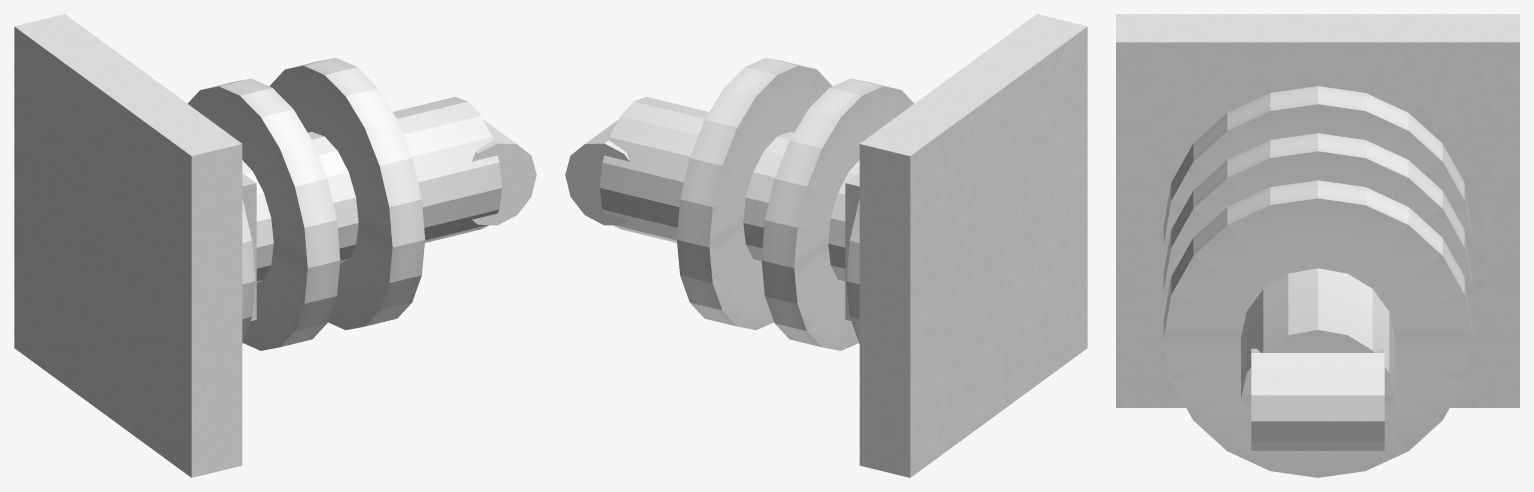
Rendered from lineinsulator3200.obj.
The picture shows the model from 3 angles, left to right: view 1: azimuth 30°, elevation 25°; view 2: azimuth 150°, elevation 25°; view 3: azimuth 270°, elevation 25°; orthographic projection. The views are drawn at different scales.
Visible parts, largest first — view 1: main, Porcelain, Clamp, CableFeed; view 2: main, Porcelain, Clamp, CableFeed; view 3: Porcelain, main, Clamp.
Part boxes in pixels (x1,y1,x2,y2): main: [14, 14, 242, 477]; Porcelain: [69, 58, 502, 350]; Clamp: [472, 119, 536, 225]; CableFeed: [242, 173, 256, 320]; main: [859, 14, 1087, 477]; Porcelain: [599, 58, 967, 350]; Clamp: [565, 119, 629, 225]; CableFeed: [845, 173, 859, 320]; Porcelain: [1163, 86, 1472, 477]; main: [1116, 14, 1519, 407]; Clamp: [1251, 348, 1384, 450].
Bounding box in the file's own units: 0.279 × 0.212 × 0.212.
